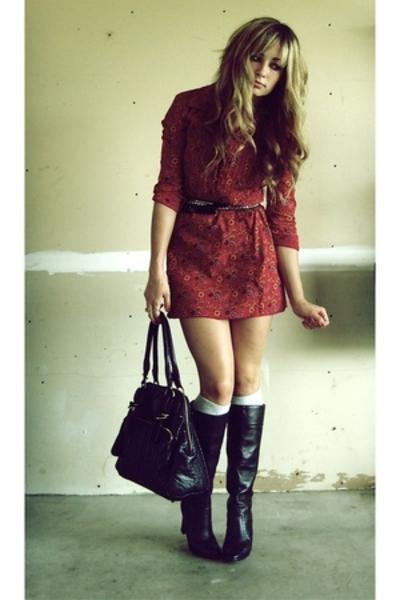bag: (111, 323, 205, 501)
dress: (151, 84, 299, 324)
shoe: (180, 396, 264, 563)
